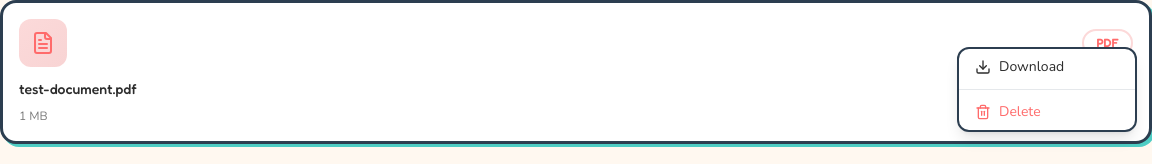
Test: FileItem › calls onDownload when Download is clicked
Earlier steps of the test are not shown.
Click the button "Download" at (1047, 67), box [959,49,1135,85]
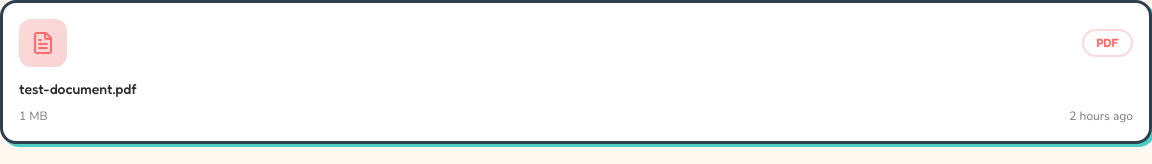
Result: the button "Download" is gone
